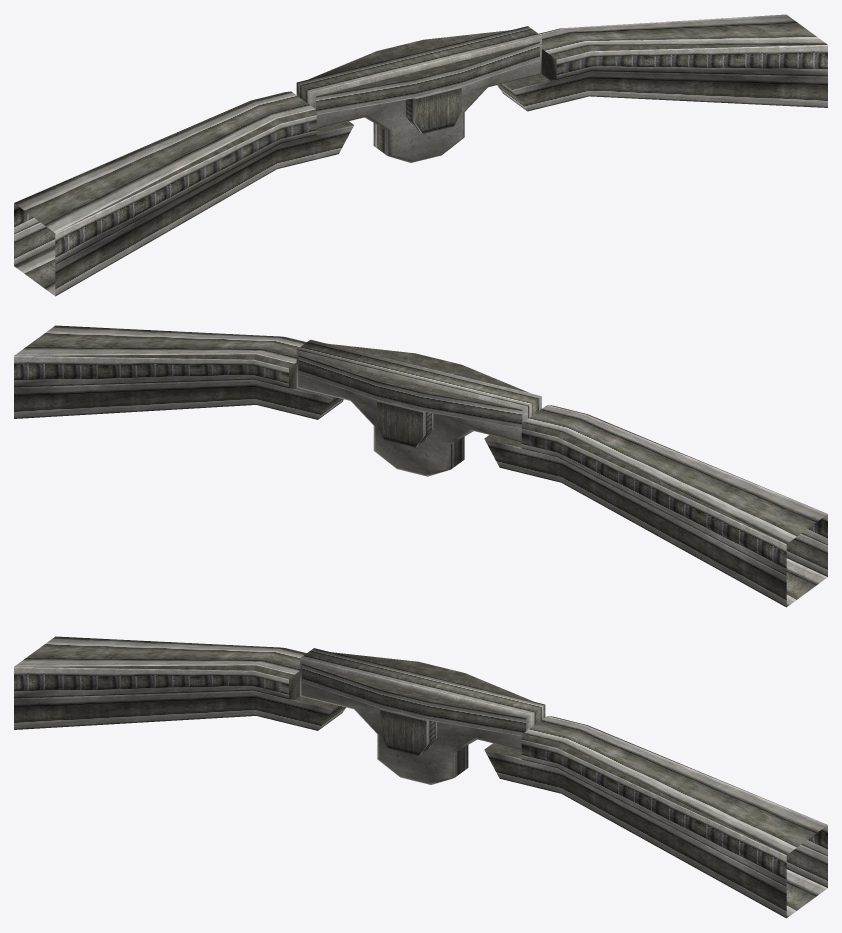
The model's file is DWARF_PALACE_FORGE_LARGECOLUMN.fbx.
3 views of the same model, one above another, from view 1: azimuth 30°, elevation 25°; view 2: azimuth 150°, elevation 25°; view 3: azimuth 330°, elevation 25° (orthographic).
Parts seen in each view (by area): view 1: DWARF_PALACE_FORGE_LARGECOLUMN; view 2: DWARF_PALACE_FORGE_LARGECOLUMN; view 3: DWARF_PALACE_FORGE_LARGECOLUMN.
Part boxes in pixels (x1,y1,x2,y2): DWARF_PALACE_FORGE_LARGECOLUMN: (14, 14, 827, 296); DWARF_PALACE_FORGE_LARGECOLUMN: (14, 325, 827, 607); DWARF_PALACE_FORGE_LARGECOLUMN: (14, 636, 827, 918).
Size of the model in its own units: 255927 by 40000 by 23896.
4 materials, 4 textured.
